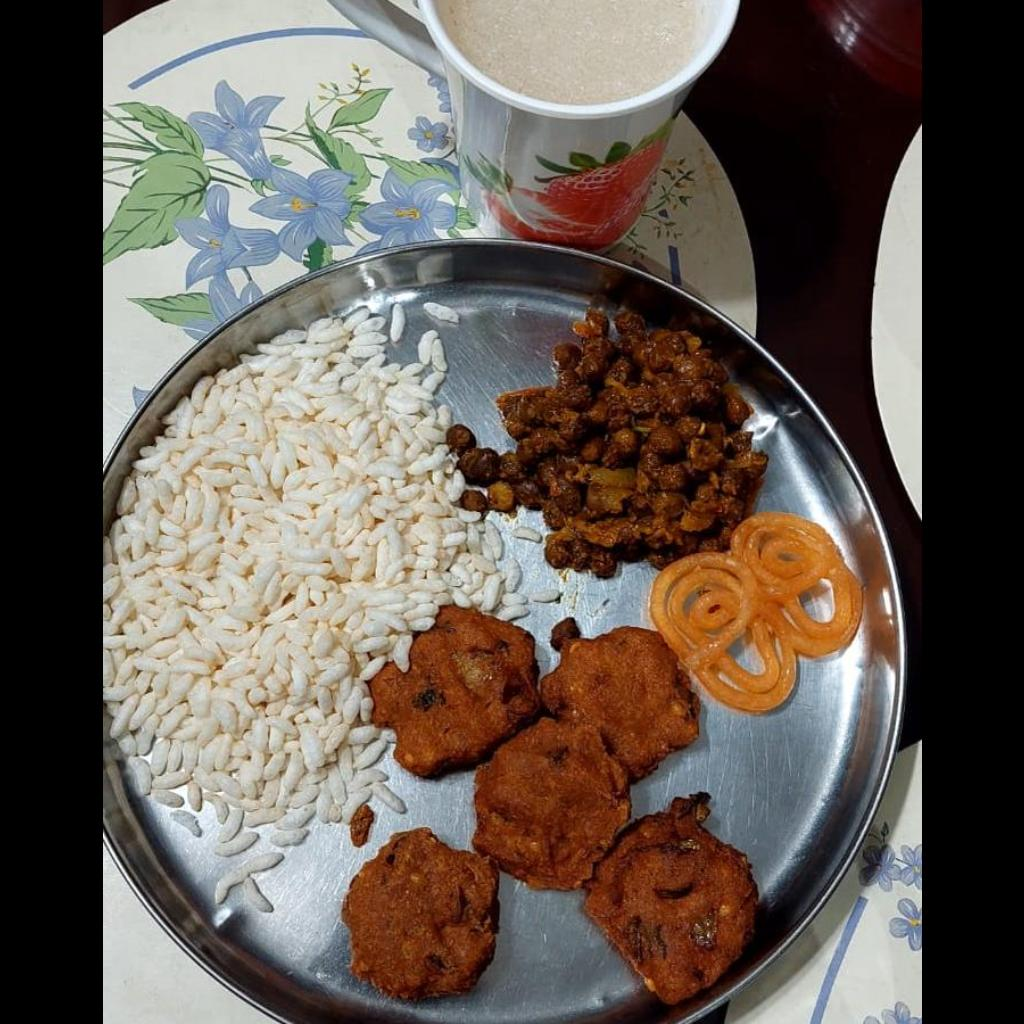chola: (448, 311, 765, 577)
jilapi: (648, 512, 862, 713)
juice: (438, 0, 697, 105)
piyaju: (342, 606, 756, 1005)
puffed-rice: (102, 320, 523, 849)
